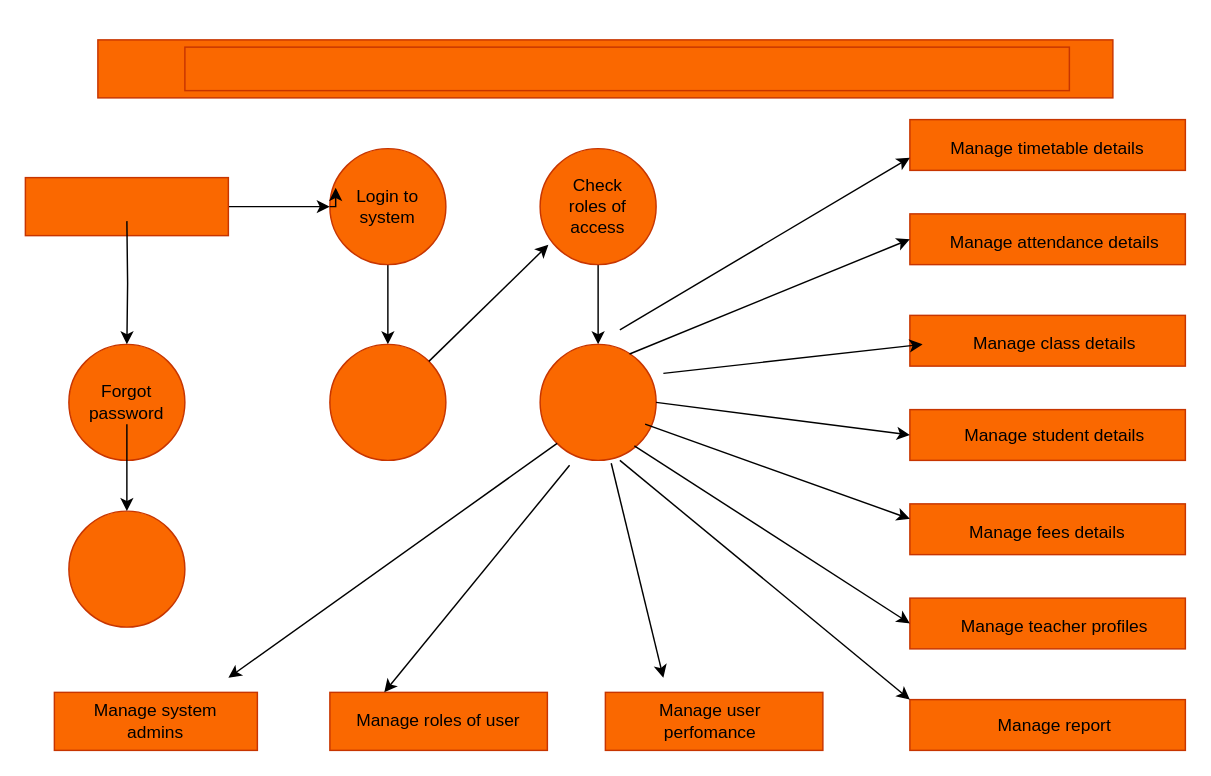
Image size: 1211x776. Some labels were removed from this diagram. Here are the shapes that lost their labels. From the top down, the centre of each, then its label:
At (x=626, y=68): "Student Information System".
At (x=126, y=206): "Admin".
At (x=387, y=401): "Check credentials".
At (x=597, y=401): "Manage modules".
At (x=126, y=568): "Send email to user".
